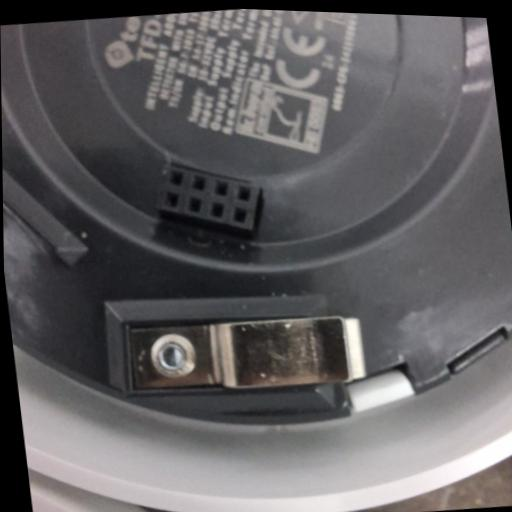yayli: (115, 292, 377, 416)
